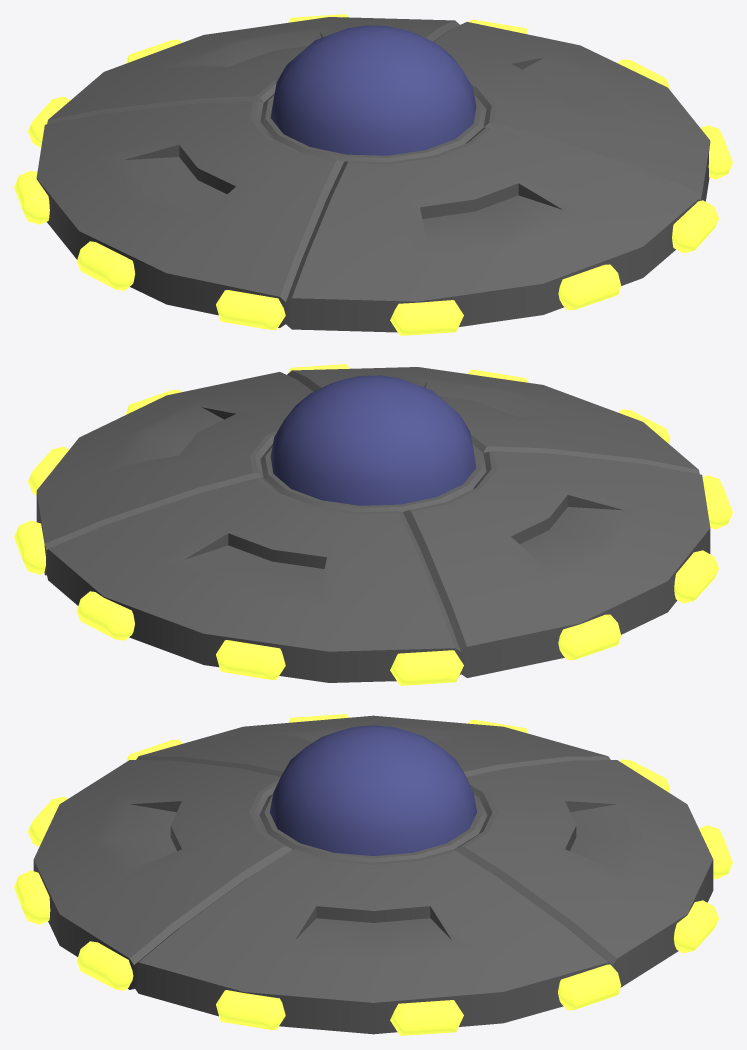
File: UFO_anim.fbx
3 renders of one model, top to bottom at view 1: azimuth 30°, elevation 25°; view 2: azimuth 150°, elevation 25°; view 3: azimuth 270°, elevation 25°, orthographic.
Parts seen in each view (by area): view 1: Sphere, Cylinder; view 2: Sphere, Cylinder; view 3: Sphere, Cylinder.
Boxes of the visible parts, box(x1,y1,x2,y2) form: Sphere: box(36, 17, 710, 332); Cylinder: box(14, 14, 732, 335); Sphere: box(36, 367, 710, 682); Cylinder: box(14, 364, 732, 685); Sphere: box(33, 715, 713, 1034); Cylinder: box(14, 714, 732, 1035).
Size of the model in its own units: 416 by 118 by 416.
